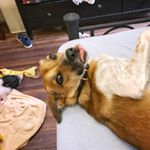puppy: (33, 42, 131, 129)
